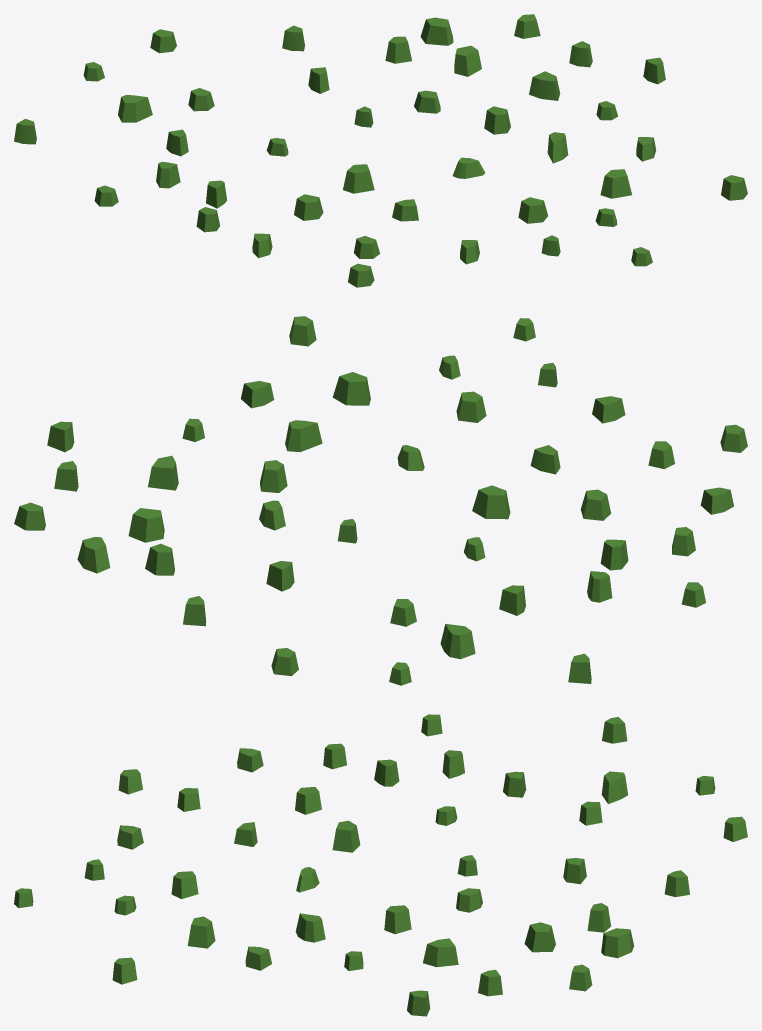
Rendered from grass_layer_crumbs_mini_set_B.fbx.
The picture shows the model from 3 angles, top to bottom: view 1: azimuth 30°, elevation 25°; view 2: azimuth 150°, elevation 25°; view 3: azimuth 270°, elevation 25°; orthographic projection. The views are drawn at different scales.
Visible parts, largest first — view 1: grass_layer_crumb_spec_B3, grass_layer_crumb_spec_F2, grass_layer_crumb_spec_D3, grass_layer_crumb_spec_D1, grass_layer_crumb_spec_A, grass_layer_crumb_spec_C4, grass_layer_crumb_spec_C8, grass_layer_crumb_spec_C5, grass_layer_crumb_spec_C, grass_layer_crumb_spec_D4, grass_layer_crumb_spec_C10, grass_layer_crumb_spec_B4 (+17 smaller); view 2: grass_layer_crumb_spec_D1, grass_layer_crumb_spec_D3, grass_layer_crumb_spec_C4, grass_layer_crumb_spec_B3, grass_layer_crumb_spec_B2, grass_layer_crumb_spec_F2, grass_layer_crumb_spec_A, grass_layer_crumb_spec_D4, grass_layer_crumb_spec_C5, grass_layer_crumb_spec_C8, grass_layer_crumb_spec_C, grass_layer_crumb_spec_B5 (+14 smaller); view 3: grass_layer_crumb_spec_A, grass_layer_crumb_spec_F2, grass_layer_crumb_spec_C4, grass_layer_crumb_spec_B2, grass_layer_crumb_spec_D3, grass_layer_crumb_spec_D1, grass_layer_crumb_spec_B3, grass_layer_crumb_spec_C, grass_layer_crumb_spec_C8, grass_layer_crumb_spec_C5, grass_layer_crumb_spec_B5, grass_layer_crumb_spec_D4 (+15 smaller).
Part boxes in pixels (x1,y1,x2,y2): grass_layer_crumb_spec_B3: [118, 95, 152, 122]; grass_layer_crumb_spec_F2: [420, 17, 453, 45]; grass_layer_crumb_spec_D3: [343, 164, 374, 193]; grass_layer_crumb_spec_D1: [600, 169, 631, 198]; grass_layer_crumb_spec_A: [529, 71, 560, 100]; grass_layer_crumb_spec_C4: [454, 45, 481, 76]; grass_layer_crumb_spec_C8: [518, 197, 547, 223]; grass_layer_crumb_spec_C5: [294, 194, 323, 220]; grass_layer_crumb_spec_C: [484, 106, 510, 134]; grass_layer_crumb_spec_D4: [385, 36, 411, 63]; grass_layer_crumb_spec_C10: [721, 175, 747, 200]; grass_layer_crumb_spec_B4: [156, 161, 180, 188]; grass_layer_crumb_spec_D1: [332, 372, 370, 405]; grass_layer_crumb_spec_D3: [472, 485, 510, 519]; grass_layer_crumb_spec_C4: [128, 508, 164, 542]; grass_layer_crumb_spec_B3: [440, 623, 475, 659]; grass_layer_crumb_spec_B2: [285, 420, 322, 452]; grass_layer_crumb_spec_F2: [77, 537, 110, 573]; grass_layer_crumb_spec_A: [148, 455, 178, 490]; grass_layer_crumb_spec_D4: [145, 543, 174, 575]; grass_layer_crumb_spec_C5: [580, 489, 611, 520]; grass_layer_crumb_spec_C8: [456, 391, 486, 422]; grass_layer_crumb_spec_C: [260, 460, 287, 492]; grass_layer_crumb_spec_B5: [600, 539, 628, 570]; grass_layer_crumb_spec_A: [423, 938, 458, 967]; grass_layer_crumb_spec_F2: [601, 928, 633, 958]; grass_layer_crumb_spec_C4: [524, 922, 555, 952]; grass_layer_crumb_spec_B2: [295, 913, 325, 942]; grass_layer_crumb_spec_D3: [332, 820, 360, 852]; grass_layer_crumb_spec_D1: [187, 916, 215, 948]; grass_layer_crumb_spec_B3: [601, 771, 627, 803]; grass_layer_crumb_spec_C: [384, 905, 411, 934]; grass_layer_crumb_spec_C8: [171, 871, 198, 898]; grass_layer_crumb_spec_C5: [295, 787, 321, 814]; grass_layer_crumb_spec_B5: [374, 759, 399, 786]; grass_layer_crumb_spec_D4: [587, 903, 611, 932].
Size of the model in its own units: 505 by 18.22 by 548.
